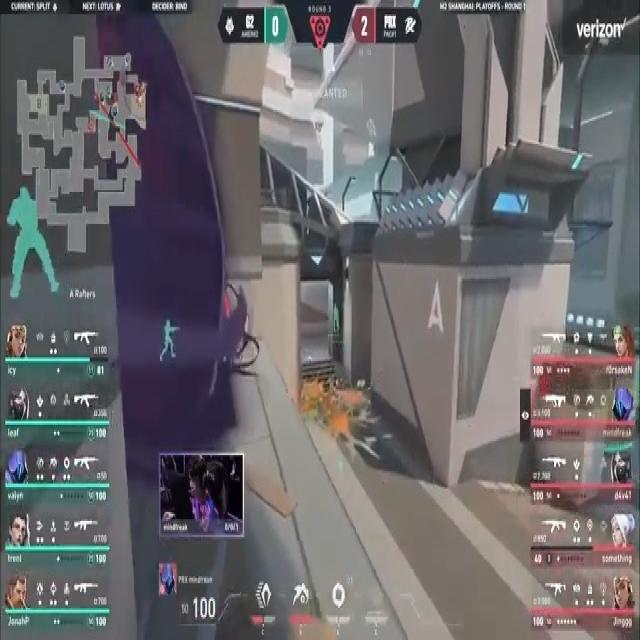ally behind wall: (5, 187, 59, 303)
